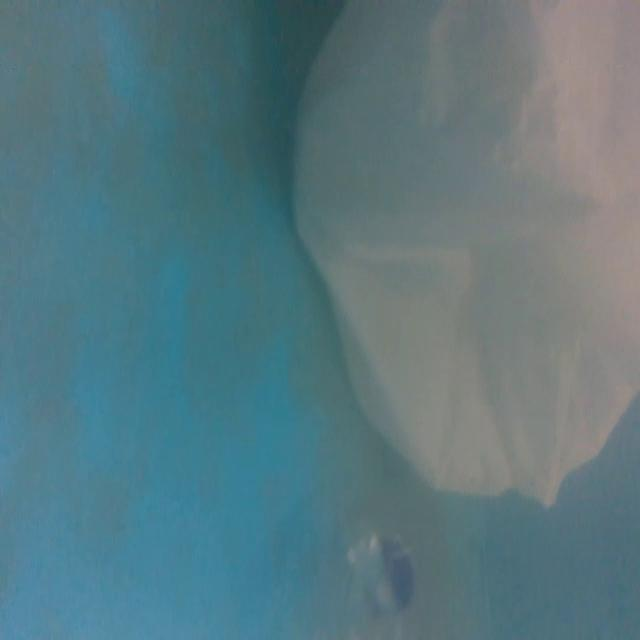plastic bags: (279, 0, 640, 509)
